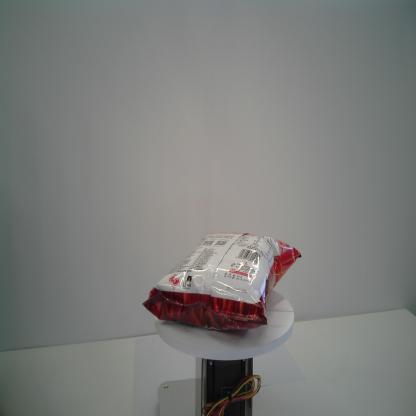Puffed Food: (142, 232, 302, 332)
